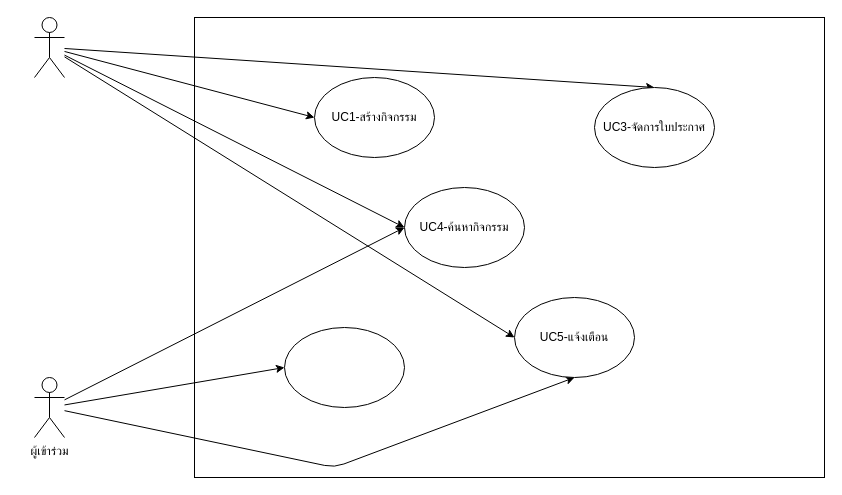
This 842x495 diagram has some shape labels left out. The shapes that lost their labels are listed below. From the top down, each one's centre as x and y in pixels, then its label:
At pixel 49 47: "ผู้สร้างกิจกรรม".
At pixel 344 367: "UC2-ลงทะเบียนเข้าร่วมกิจกรรม".
